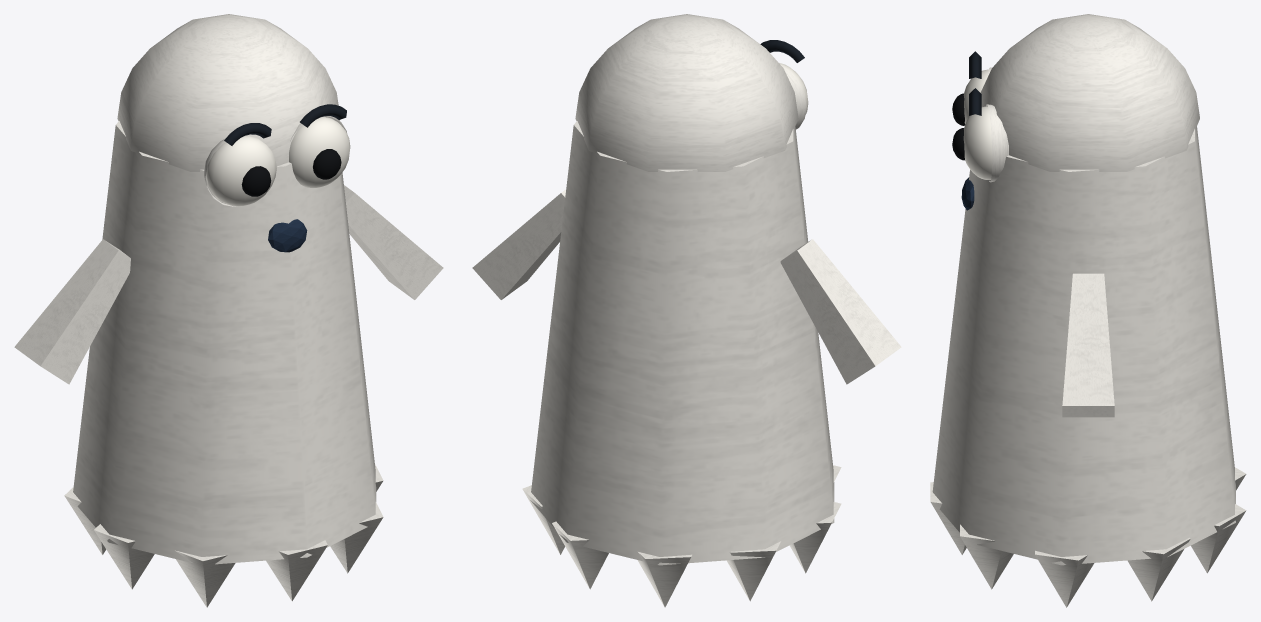
The model's file is ghost.glb.
The picture shows the model from 3 angles, left to right: view 1: azimuth 30°, elevation 25°; view 2: azimuth 150°, elevation 25°; view 3: azimuth 270°, elevation 25°; orthographic projection.
Parts seen in each view (by area): view 1: body, head, shoulderR, shoulderL, jaw; view 2: body, head, shoulderR, shoulderL; view 3: body, head, shoulderL.
Part boxes in pixels (x1,y1,x2,y2): body: (64, 121, 383, 607); head: (117, 14, 350, 206); shoulderR: (14, 239, 130, 384); shoulderL: (344, 185, 443, 299); jaw: (268, 219, 307, 252); body: (522, 121, 841, 607); head: (575, 14, 808, 171); shoulderR: (780, 239, 901, 384); shoulderL: (472, 189, 565, 299); body: (930, 127, 1246, 607); head: (952, 14, 1199, 182); shoulderL: (1062, 273, 1114, 417).
Size of the model in its own units: 1.07 by 1.34 by 0.7253.
8 materials, 5 textured.
